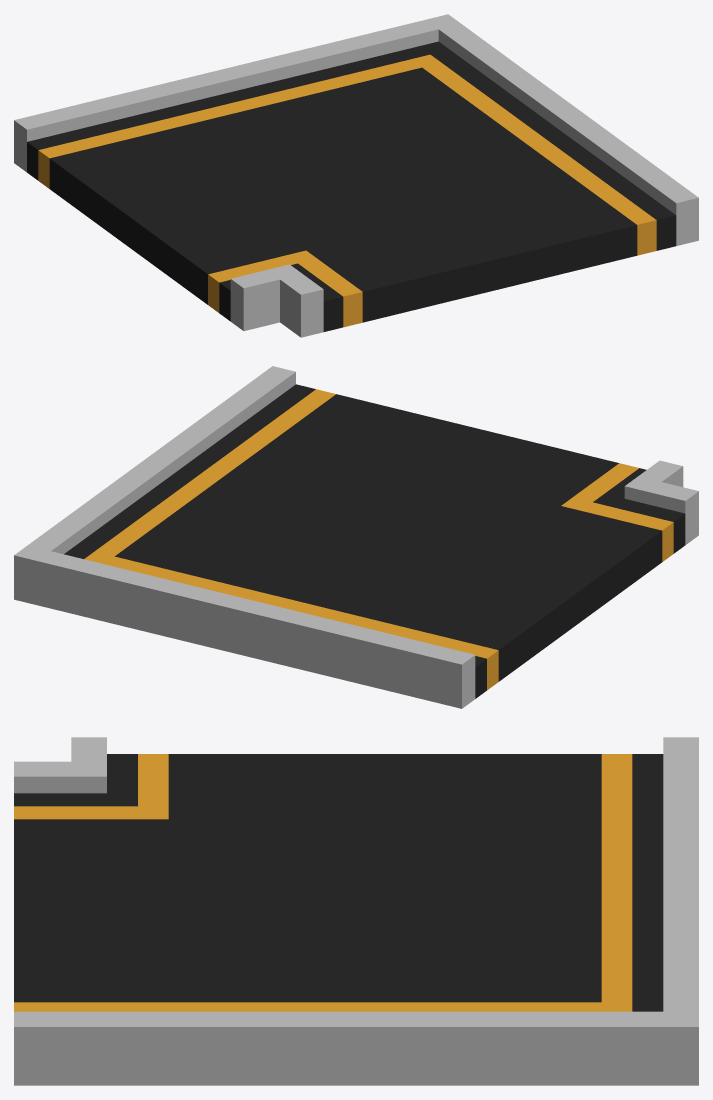
The model's file is Road_Turn.fbx.
3 renders of one model, top to bottom at view 1: azimuth 30°, elevation 25°; view 2: azimuth 150°, elevation 25°; view 3: azimuth 270°, elevation 25°, orthographic. The views are drawn at different scales.
Visible parts, largest first — view 1: Road_Turn; view 2: Road_Turn; view 3: Road_Turn.
Boxes of the visible parts, x1=… form: Road_Turn: x1=14, y1=14, x2=698, y2=337; Road_Turn: x1=14, y1=366, x2=698, y2=708; Road_Turn: x1=14, y1=737, x2=698, y2=1085.
Size of the model in its own units: 92.29 by 8.72 by 92.29.
